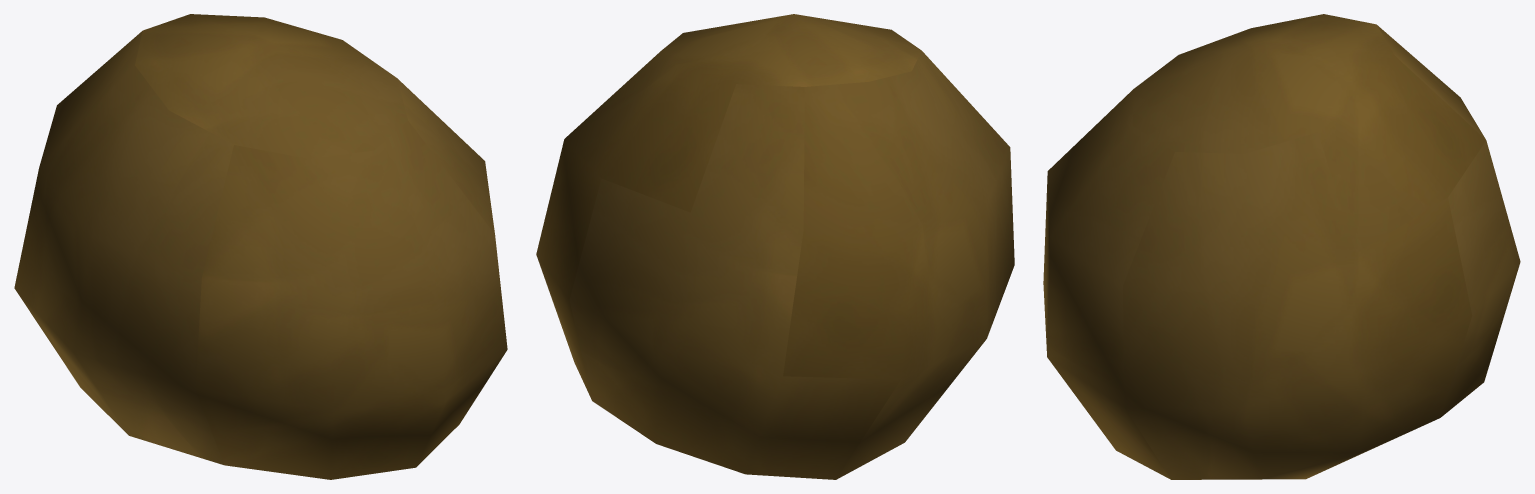
File: roca2.FBX
The picture shows the model from 3 angles, left to right: view 1: azimuth 30°, elevation 25°; view 2: azimuth 150°, elevation 25°; view 3: azimuth 270°, elevation 25°; orthographic projection. The views are drawn at different scales.
Visible parts, largest first — view 1: Sphere001; view 2: Sphere001; view 3: Sphere001.
Boxes of the visible parts, x1=… form: Sphere001: x1=14, y1=14, x2=507, y2=479; Sphere001: x1=536, y1=14, x2=1014, y2=479; Sphere001: x1=1043, y1=14, x2=1520, y2=479.
Size of the model in its own units: 20.82 by 20.63 by 21.78.
